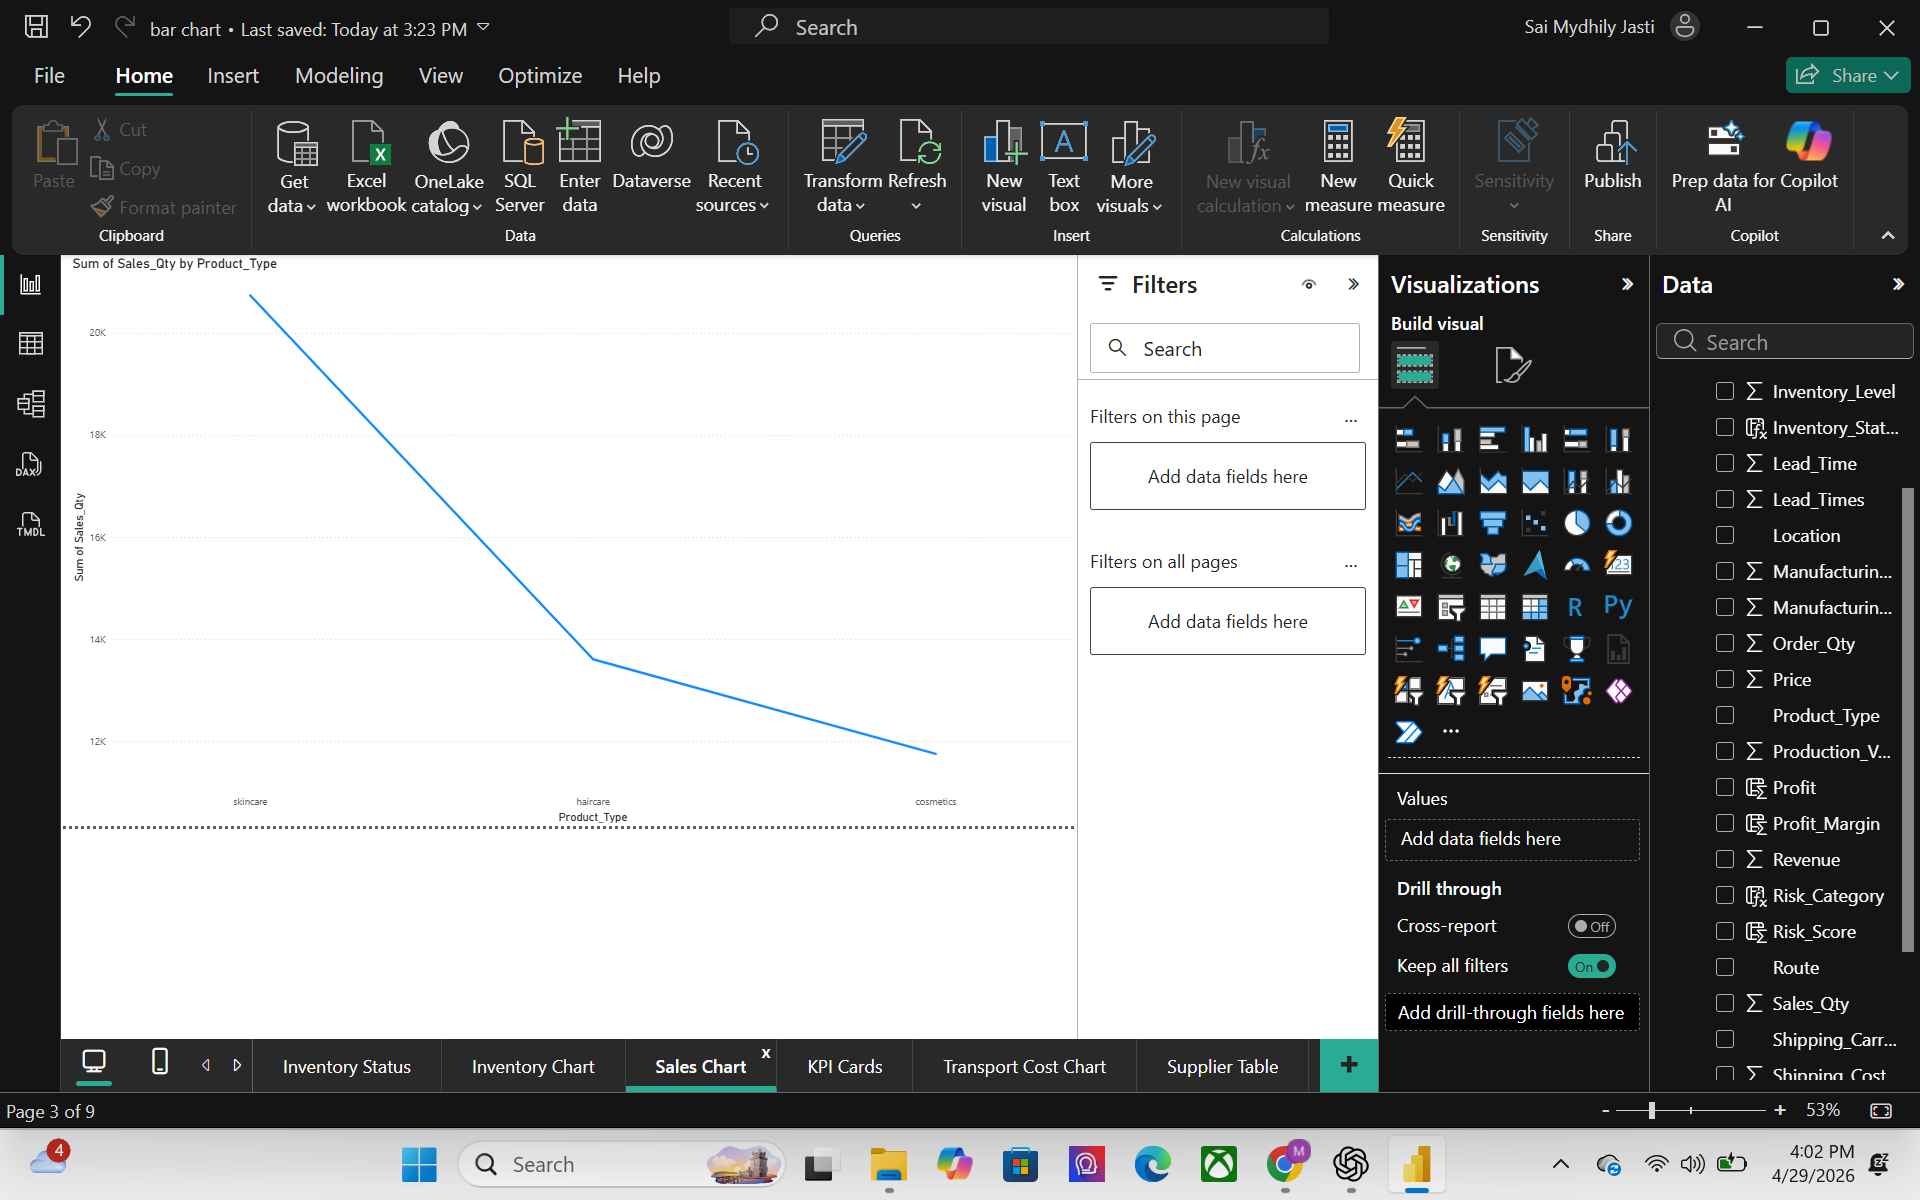

The dashboard page shown, as its layout file describes it:
{"tool":"powerbi","page":{"name":"Sales Chart","canvas":[1280,720],"ordinal":2},"visuals":[{"type":"lineChart","fields":{"Category":["supply_chain_data.Product_Type"],"Y":["Sum(supply_chain_data.Sales_Qty)"]},"box":[10,0,1270,720],"z":0}]}

Visuals, with their boxes on the page's 1280x720 design canvas (x1, y1, x2, y2). These are canvas units, not pixel positions in the 1920x1200 screenshot, which may show the page scaled, cropped or inside an application window:
lineChart - supply_chain_data.Product_Type x Sum(supply_chain_data.Sales_Qty): select_region(10, 0, 1280, 720)
